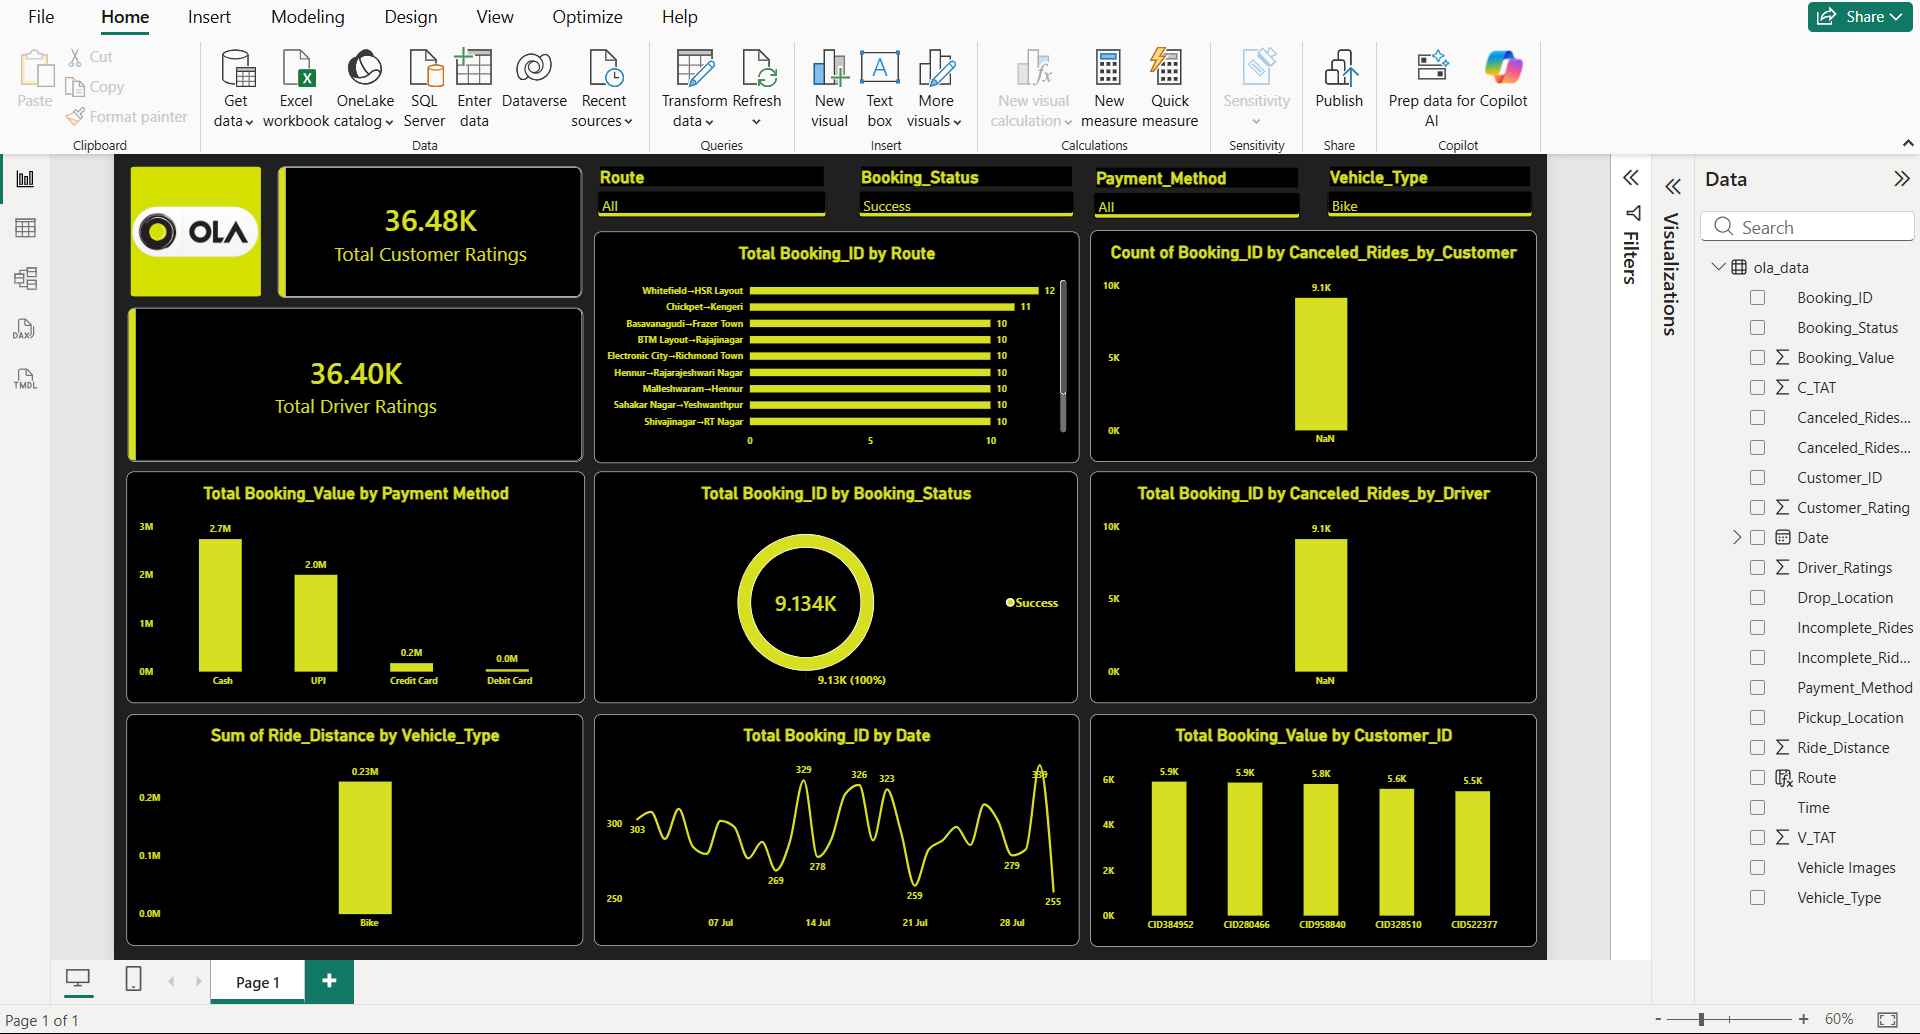

The page's visual inventory and layout, read from the dashboard file:
{"tool":"powerbi","page":{"name":"Page 1","canvas":[1920,1080],"ordinal":0},"visuals":[{"type":"lineChart","title":"Total Booking_ID by Date","fields":{"Y":["CountNonNull(ola_data.Booking_ID)"],"Category":["ola_data.Date.Variation.Date Hierarchy.Year","ola_data.Date.Variation.Date Hierarchy.Quarter","ola_data.Date.Variation.Date Hierarchy.Month","ola_data.Date.Variation.Date Hierarchy.Day"]},"box":[644,750,650,310],"z":0},{"type":"donutChart","title":"Total Booking_ID by Booking_Status","fields":{"Category":["ola_data.Booking_Status"],"Y":["CountNonNull(ola_data.Booking_ID)"]},"box":[644,426,648,310],"z":1000},{"type":"slicer","fields":{"Values":["ola_data.Vehicle_Type"]},"box":[1622,16,284,70],"z":2000},{"type":"clusteredColumnChart","fields":{"Y":["Sum(ola_data.Ride_Distance)"],"Category":["ola_data.Vehicle_Type"]},"box":[16,750,612,310],"z":3000},{"type":"columnChart","title":"Total Booking_Value by Payment Method","fields":{"Y":["Sum(ola_data.Booking_Value)"],"Category":["ola_data.Payment_Method"]},"box":[16,426,614,310],"z":4000},{"type":"clusteredColumnChart","title":"Total Booking_Value by Customer_ID","fields":{"Y":["Sum(ola_data.Booking_Value)"],"Category":["ola_data.Customer_ID"]},"box":[1308,750,598,312],"z":5000},{"type":"cardVisual","fields":{"Data":["Sum(ola_data.Driver_Ratings)"]},"box":[18,206,610,206],"z":6000},{"type":"cardVisual","fields":{"Data":["Sum(ola_data.Customer_Rating)"]},"box":[220,16,408,176],"z":7000},{"type":"columnChart","fields":{"Category":["ola_data.Canceled_Rides_by_Customer"],"Y":["CountNonNull(ola_data.Booking_ID)"]},"box":[1308,102,598,310],"z":8000},{"type":"columnChart","title":"Total Booking_ID by Canceled_Rides_by_Driver","fields":{"Category":["ola_data.Canceled_Rides_by_Driver"],"Y":["CountNonNull(ola_data.Booking_ID)"]},"box":[1308,426,598,310],"z":9000},{"type":"slicer","fields":{"Values":["ola_data.Booking_Status"]},"box":[994,16,298,70],"z":10000},{"type":"slicer","fields":{"Values":["ola_data.Payment_Method"]},"box":[1308,18,286,70],"z":11000},{"type":"clusteredBarChart","title":"Total Booking_ID by Route","fields":{"Category":["ola_data.Route"],"Y":["CountNonNull(ola_data.Booking_ID)"]},"box":[644,104,650,310],"z":12000},{"type":"slicer","fields":{"Values":["ola_data.Route"]},"box":[644,16,316,70],"z":13000},{"type":"image","box":[18,16,182,174],"z":14000}]}

Visuals, with their boxes on the page's 1920x1080 design canvas (x1, y1, x2, y2). These are canvas units, not pixel positions in the 1920x1034 screenshot, which may show the page scaled, cropped or inside an application window:
"Total Booking_ID by Date" lineChart: [644, 750, 1294, 1060]
"Total Booking_ID by Booking_Status" donutChart: [644, 426, 1292, 736]
slicer - ola_data.Vehicle_Type: [1622, 16, 1906, 86]
clusteredColumnChart - Sum(ola_data.Ride_Distance) x ola_data.Vehicle_Type: [16, 750, 628, 1060]
"Total Booking_Value by Payment Method" columnChart: [16, 426, 630, 736]
"Total Booking_Value by Customer_ID" clusteredColumnChart: [1308, 750, 1906, 1062]
cardVisual - Sum(ola_data.Driver_Ratings): [18, 206, 628, 412]
cardVisual - Sum(ola_data.Customer_Rating): [220, 16, 628, 192]
columnChart - ola_data.Canceled_Rides_by_Customer x CountNonNull(ola_data.Booking_ID): [1308, 102, 1906, 412]
"Total Booking_ID by Canceled_Rides_by_Driver" columnChart: [1308, 426, 1906, 736]
slicer - ola_data.Booking_Status: [994, 16, 1292, 86]
slicer - ola_data.Payment_Method: [1308, 18, 1594, 88]
"Total Booking_ID by Route" clusteredBarChart: [644, 104, 1294, 414]
slicer - ola_data.Route: [644, 16, 960, 86]
image: [18, 16, 200, 190]
